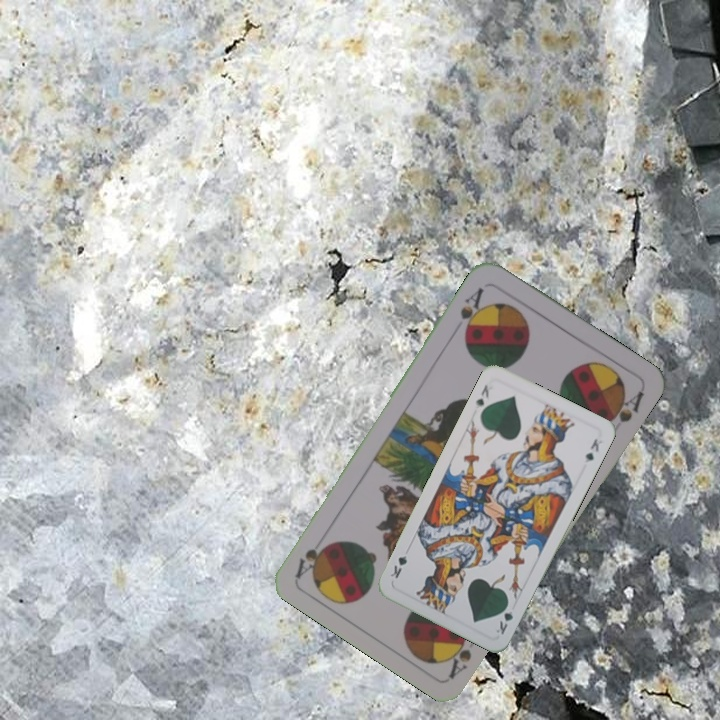GK: (492, 598, 516, 637), (471, 380, 492, 408)
SA: (456, 283, 488, 340), (444, 627, 475, 680)
